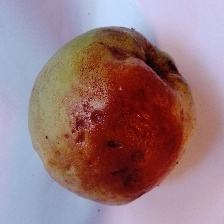guava: (52, 27, 198, 222)
